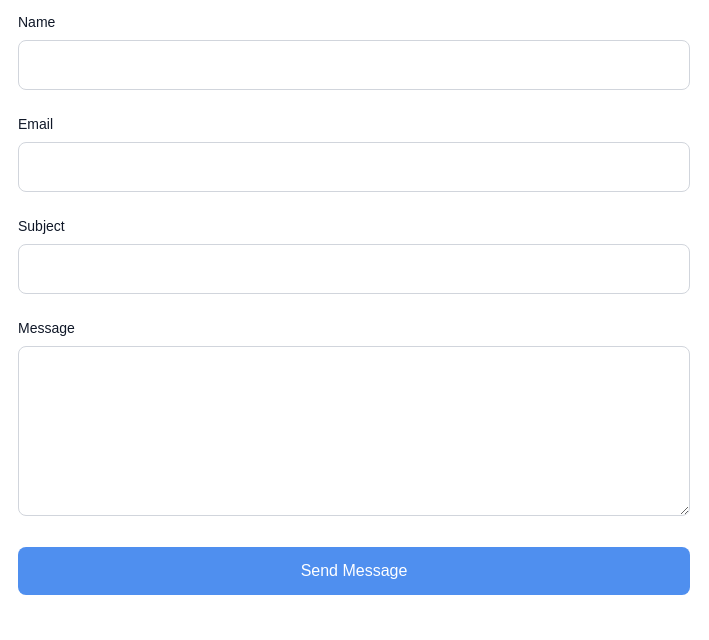
Test: ContactForm Unit Tests › Form Validation › should display validation error for empty email field
Click the field labelled "Email".
click(354, 167)  # box [18,142,690,192]
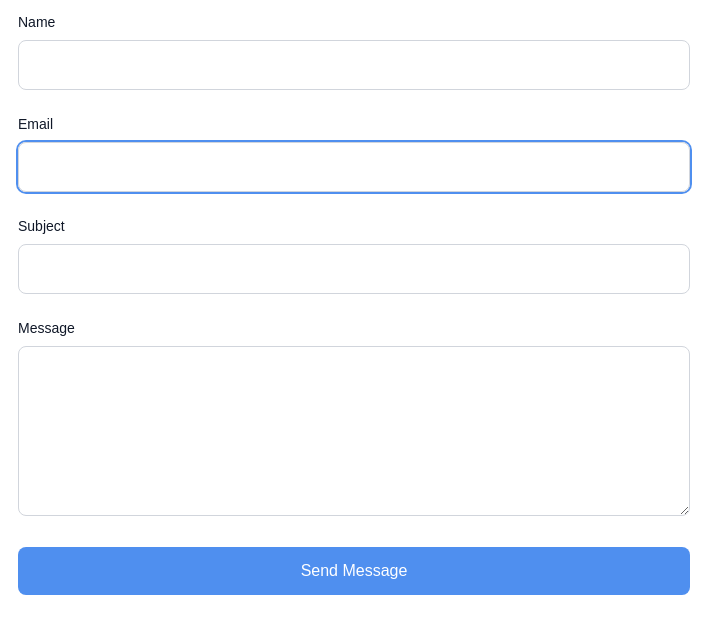
Press Tab
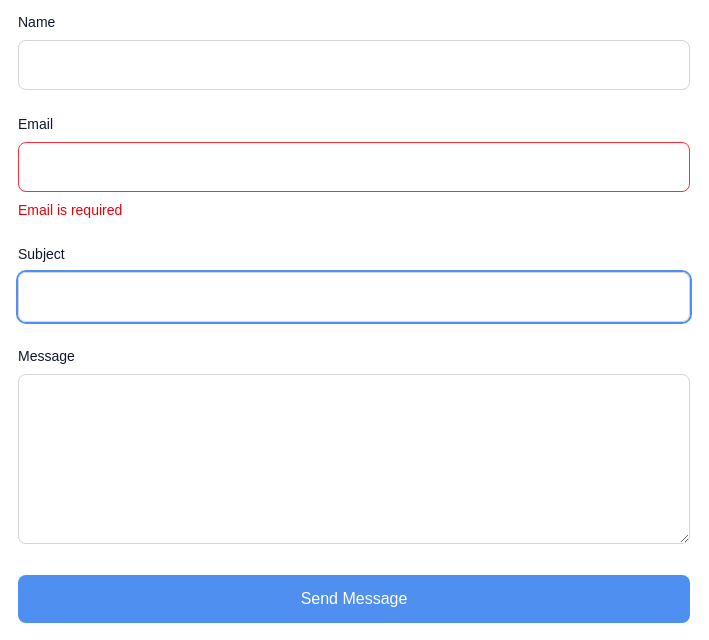
Expected: the text "Email is required" is shown, [18,202,122,218]
